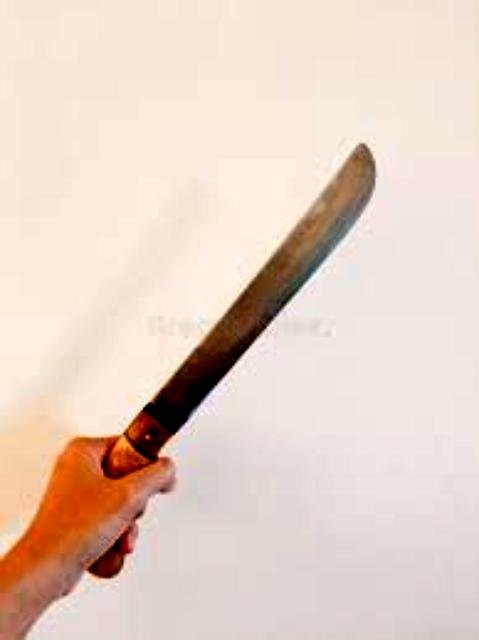long knife: (60, 135, 396, 591)
